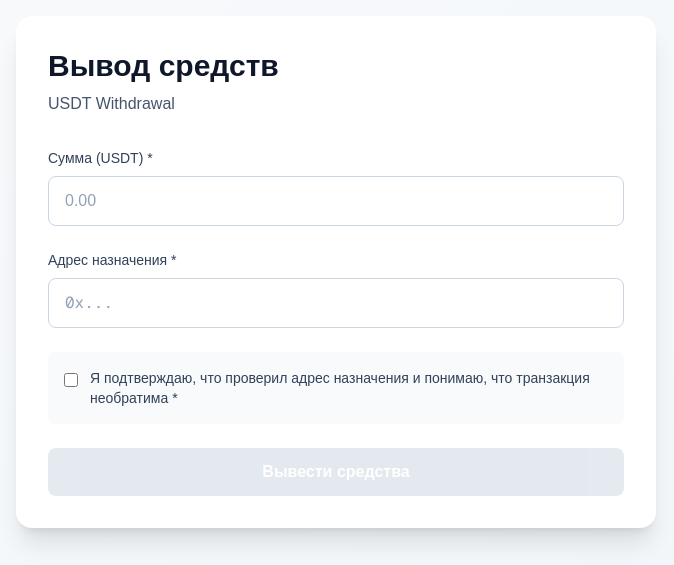
Test: WithdrawPage › should enable submit button when form is valid
Type "100" into the number field with placeholder "0.00" at x=336, y=201, box top-left (48, 176), bottom-right (624, 226)
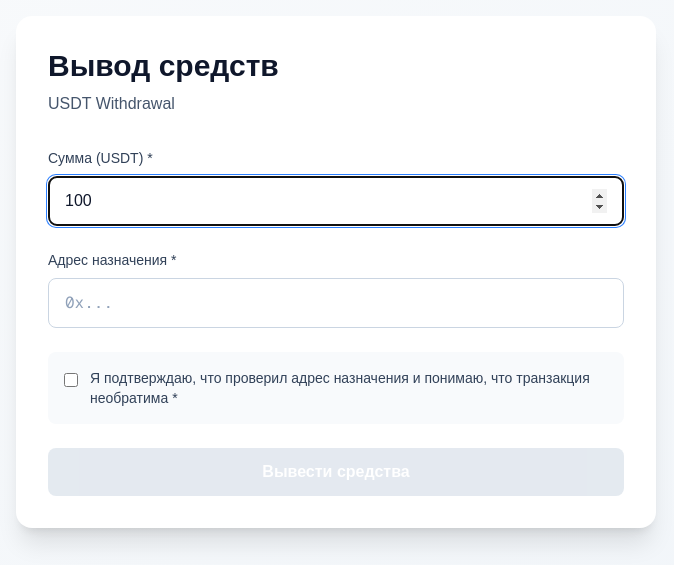
Type "0x1234567890abcdef" into the field with placeholder "0x..." at x=336, y=303, box top-left (48, 278), bottom-right (624, 328)
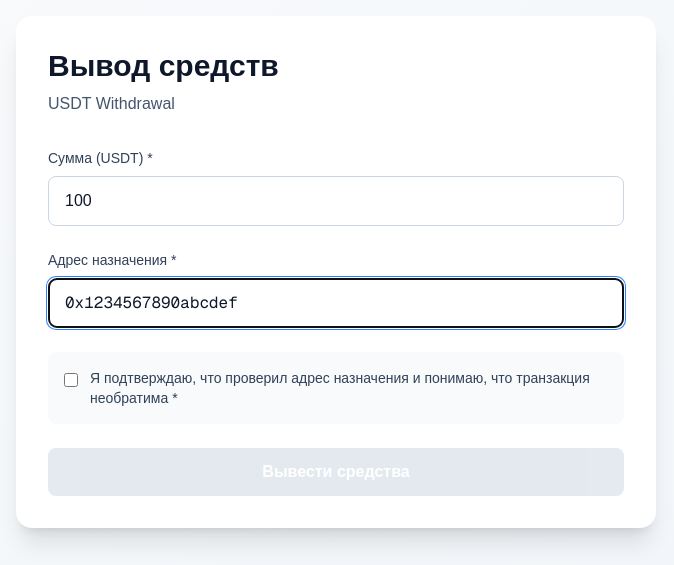
Click the checkbox at x=71, y=380, box top-left (64, 372), bottom-right (78, 388)
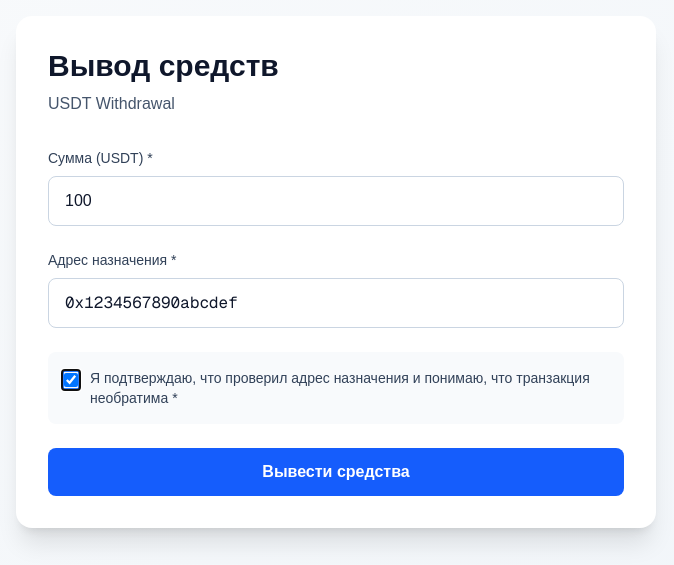
Check: the button "Вывести средства" is enabled, box top-left (48, 448), bottom-right (624, 496)
